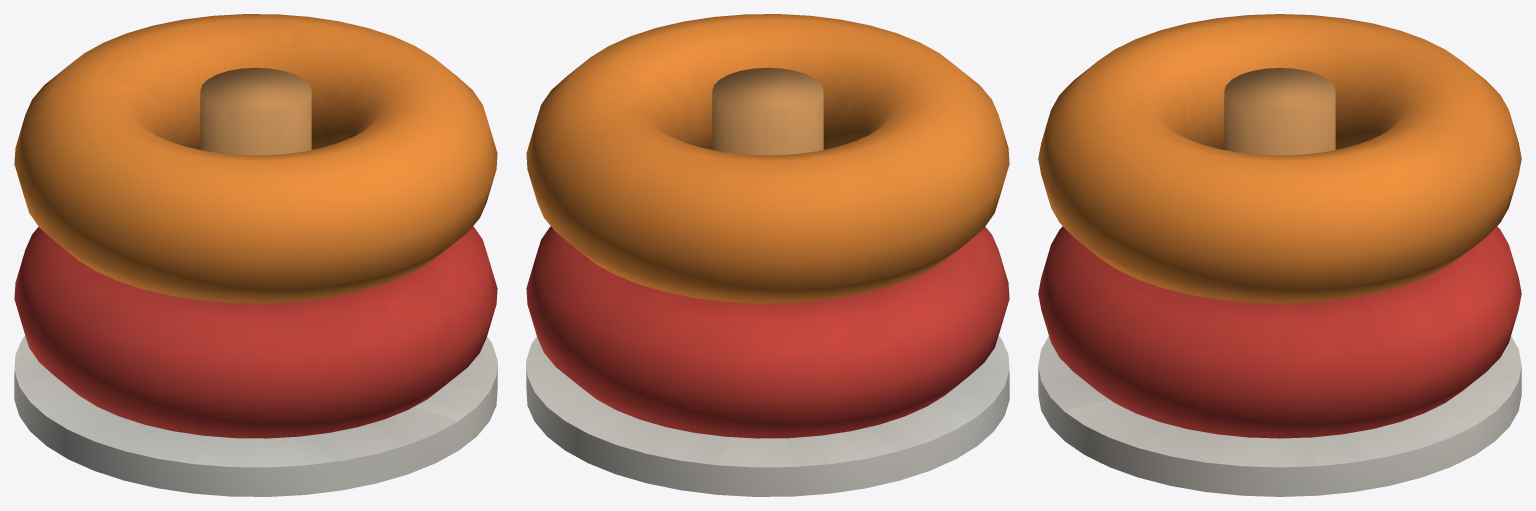
File: den_ring_stack.glb
3 renders of one model, left to right at view 1: azimuth 30°, elevation 25°; view 2: azimuth 150°, elevation 25°; view 3: azimuth 270°, elevation 25°, orthographic.
Visible parts, largest first — view 1: den_ring_stack; view 2: den_ring_stack; view 3: den_ring_stack.
Boxes of the visible parts, x1,y1,x2,y2 form: den_ring_stack: [14, 14, 497, 496]; den_ring_stack: [526, 14, 1009, 496]; den_ring_stack: [1038, 14, 1521, 496].
Bounding box in the file's own units: 5.2 × 3.6 × 5.2.
